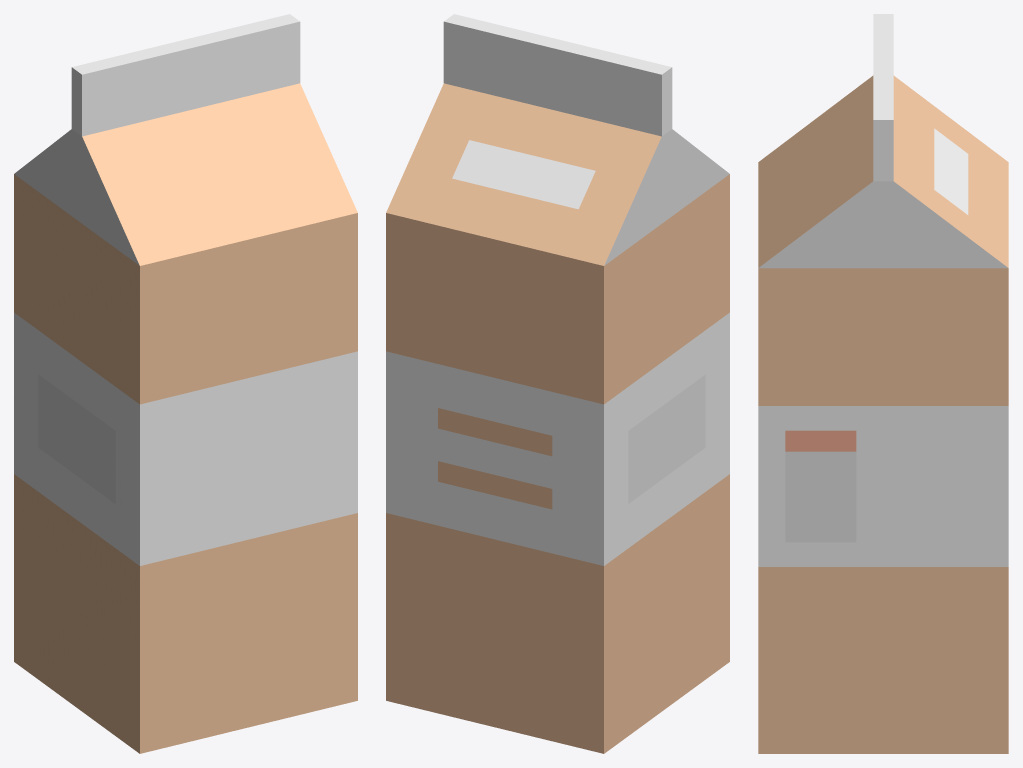
Rendered from Milk Carton.fbx.
3 renders of one model, left to right at view 1: azimuth 30°, elevation 25°; view 2: azimuth 150°, elevation 25°; view 3: azimuth 270°, elevation 25°, orthographic.
Parts seen in each view (by area): view 1: Milk Carton; view 2: Milk Carton; view 3: Milk Carton.
Part boxes in pixels (box(x1,y1,x2,y2)): Milk Carton: box(14, 14, 357, 753); Milk Carton: box(386, 14, 729, 753); Milk Carton: box(758, 14, 1008, 753).
Size of the model in its own units: 0.0863 by 0.2409 by 0.0863.
